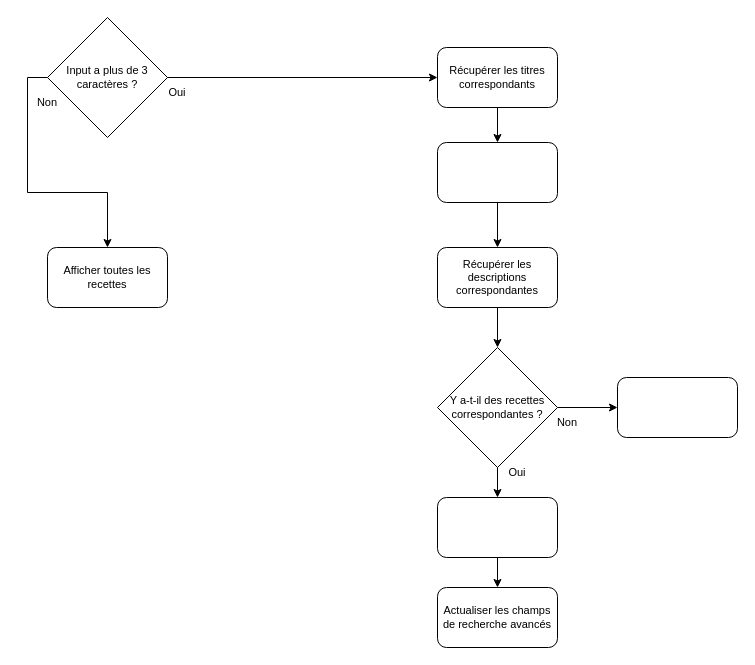
This 755x665 diagram has some shape labels left out. Here are the shapes that lost their labels. From the top down, the centre of each, then its label:
the point at 497,172: Récupérer les ingrédients correspondants
the point at 677,407: Afficher le message d'erreur
the point at 497,527: Actualiser les recettes correspondantes
